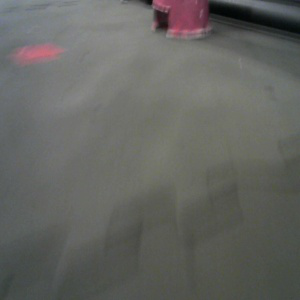right: (151, 1, 216, 39)
